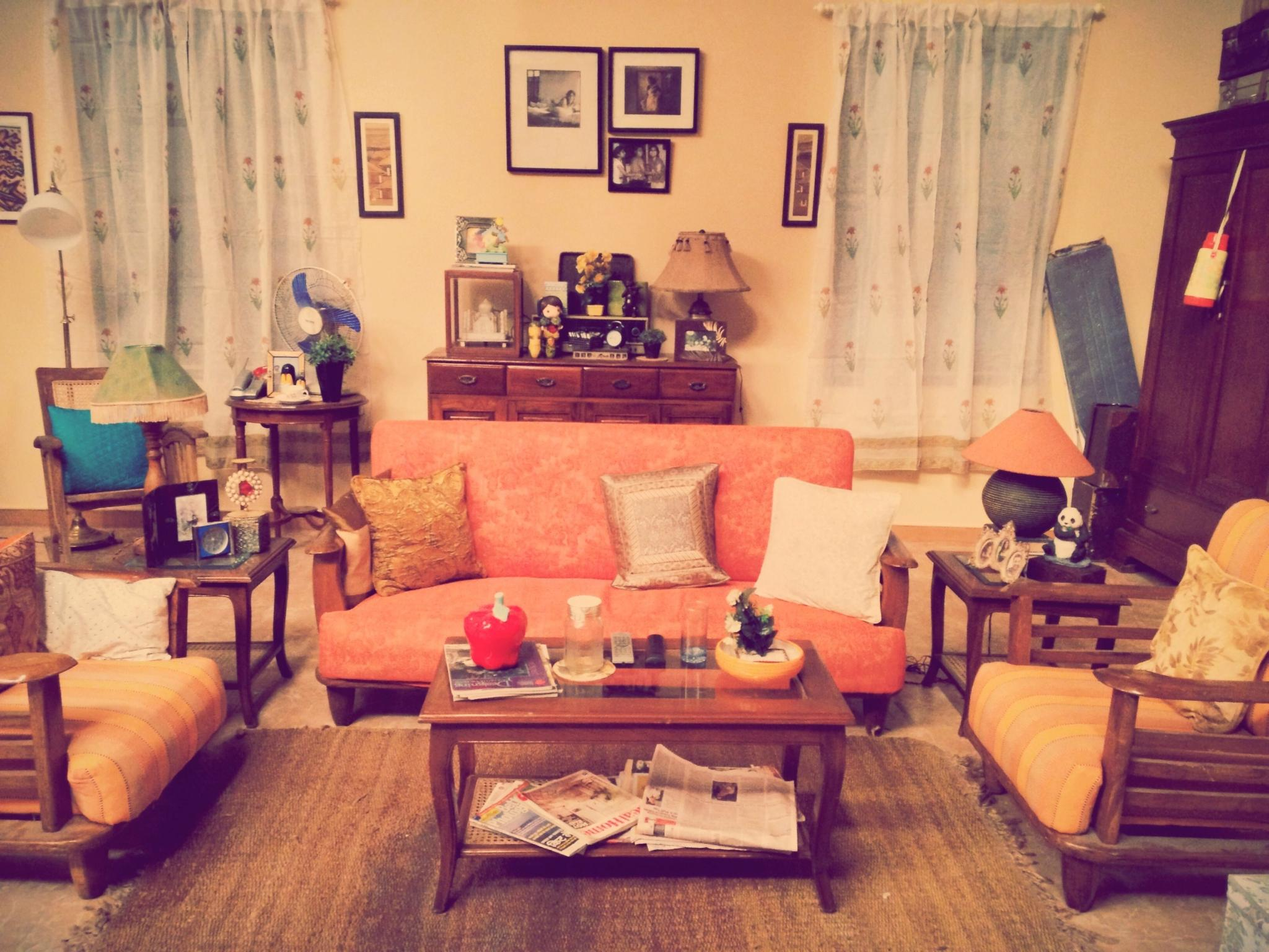chair: (946, 515, 1269, 924), (29, 355, 174, 537)
light: (0, 526, 242, 903), (99, 328, 211, 493), (965, 402, 1107, 522), (670, 223, 763, 382), (19, 172, 79, 356)
sofa: (317, 402, 911, 729)
table: (387, 643, 861, 888), (936, 550, 1175, 672), (439, 340, 736, 434), (174, 511, 324, 675), (257, 386, 390, 485), (884, 519, 1000, 628)
